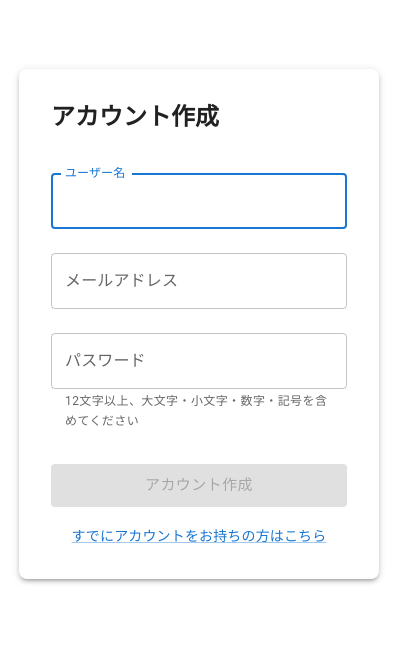
Test case: Register › 登録に失敗したら（ユーザー名重複等）、成功したように見せず理由を表示する
Type "existing" into the field labelled "ユーザー名" at (199,202), box [51,174,347,230]
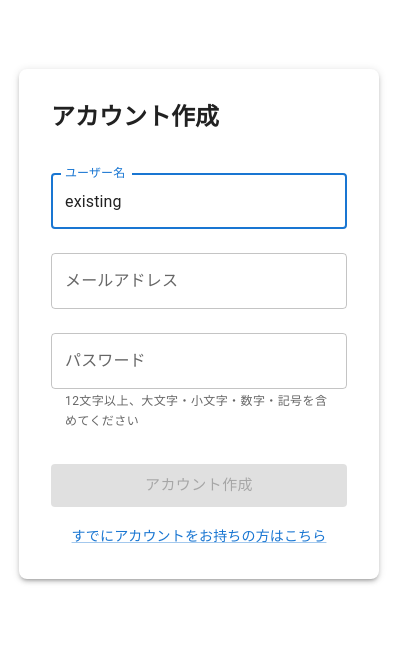
Type "existing@example.com" into the field labelled "メールアドレス" at (199,282), box [51,254,347,310]
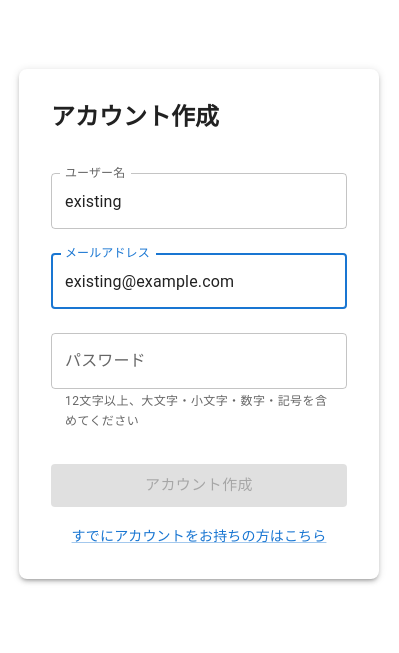
Type "SecurePass123!" into the password field labelled "パスワード" at (199,362), box [51,334,347,390]
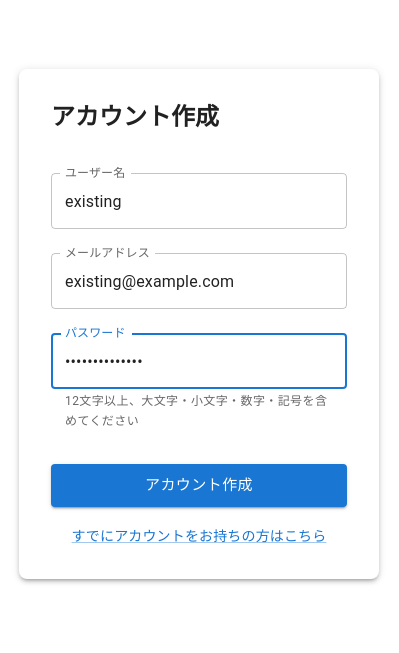
Click the button "アカウント作成" at (199,485), box [51,464,347,507]
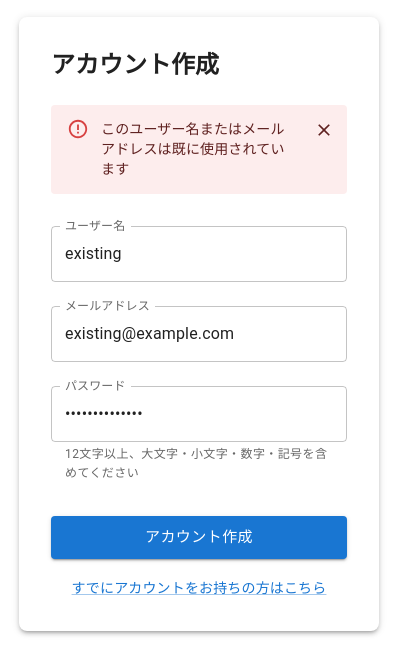
Result: the button "アカウント作成" is enabled at [51,516,347,559]
Result: the text "このユーザー名またはメールアドレスは既に使用されています" is shown at [101,112,293,188]
